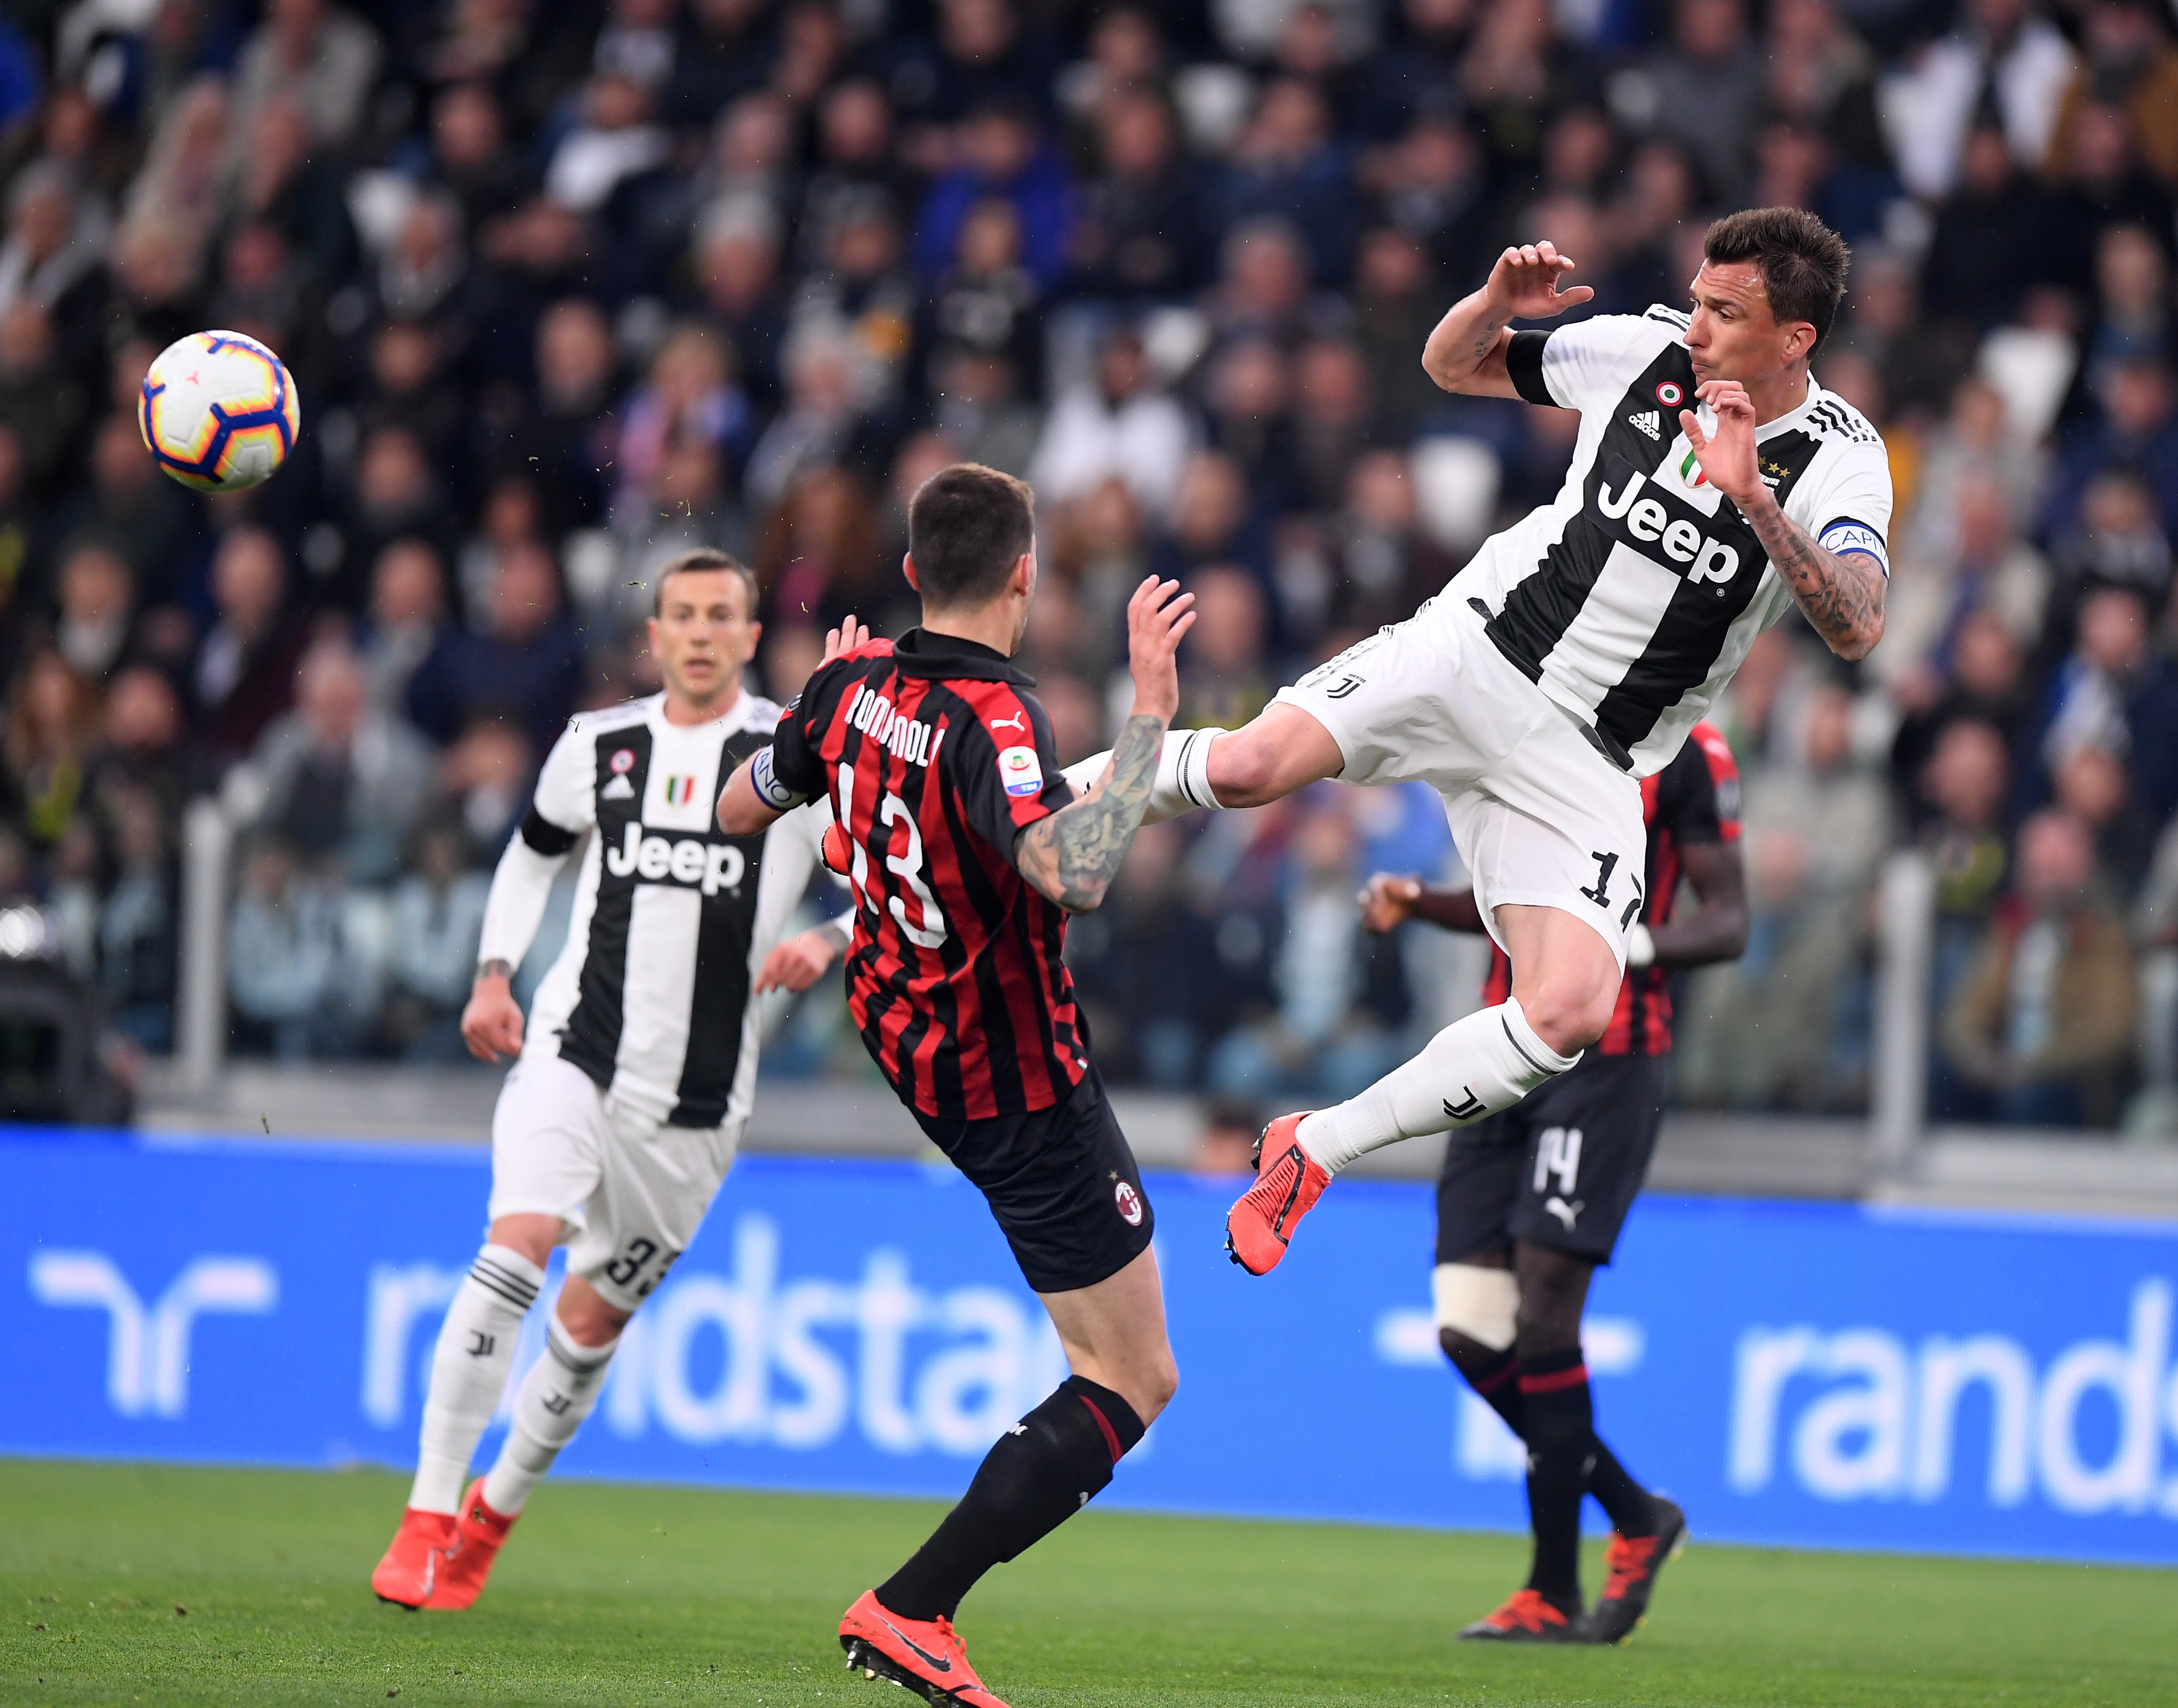ball: (136, 329, 301, 492)
